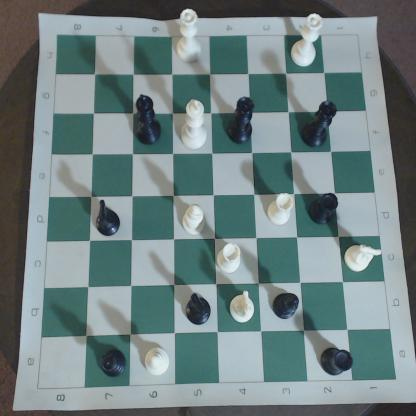black-bishop: (99, 349, 128, 382), (272, 293, 301, 320)
black-king: (135, 91, 164, 148)
black-knight: (93, 200, 125, 241), (186, 292, 214, 328)
black-queen: (306, 99, 341, 152), (230, 100, 258, 150)
black-rook: (315, 346, 355, 378), (310, 192, 337, 226)
white-bishop: (179, 203, 208, 240), (144, 347, 172, 378)
white-king: (177, 97, 211, 155)
white-knight: (345, 241, 385, 278), (229, 291, 259, 325)
white-queen: (287, 12, 324, 74), (169, 13, 207, 64)
white-rook: (266, 193, 295, 232), (218, 241, 245, 278)
